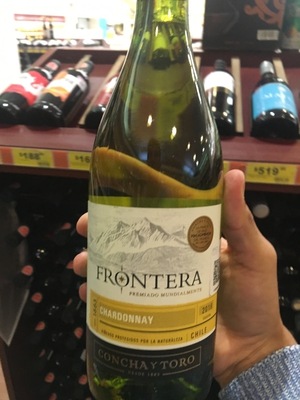frontera chardonnay: (84, 28, 222, 369)
